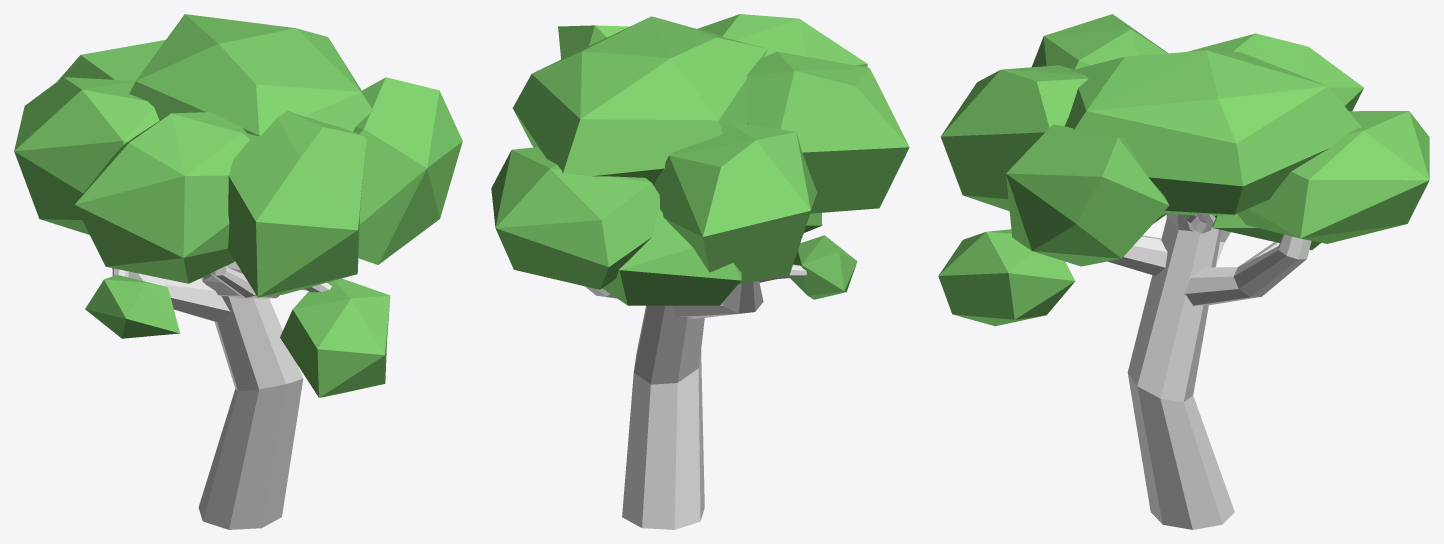
File: leaftree11.fbx
3 views of the same model, side by side, from view 1: azimuth 30°, elevation 25°; view 2: azimuth 150°, elevation 25°; view 3: azimuth 270°, elevation 25° (orthographic). The views are drawn at different scales.
Parts seen in each view (by area): view 1: Sphere; view 2: Sphere; view 3: Sphere.
Boxes of the visible parts, bbox=[...] form: Sphere: bbox=[14, 14, 462, 529]; Sphere: bbox=[491, 14, 909, 529]; Sphere: bbox=[938, 14, 1429, 529].
Bounding box in the file's own units: 621 × 749 × 734.
